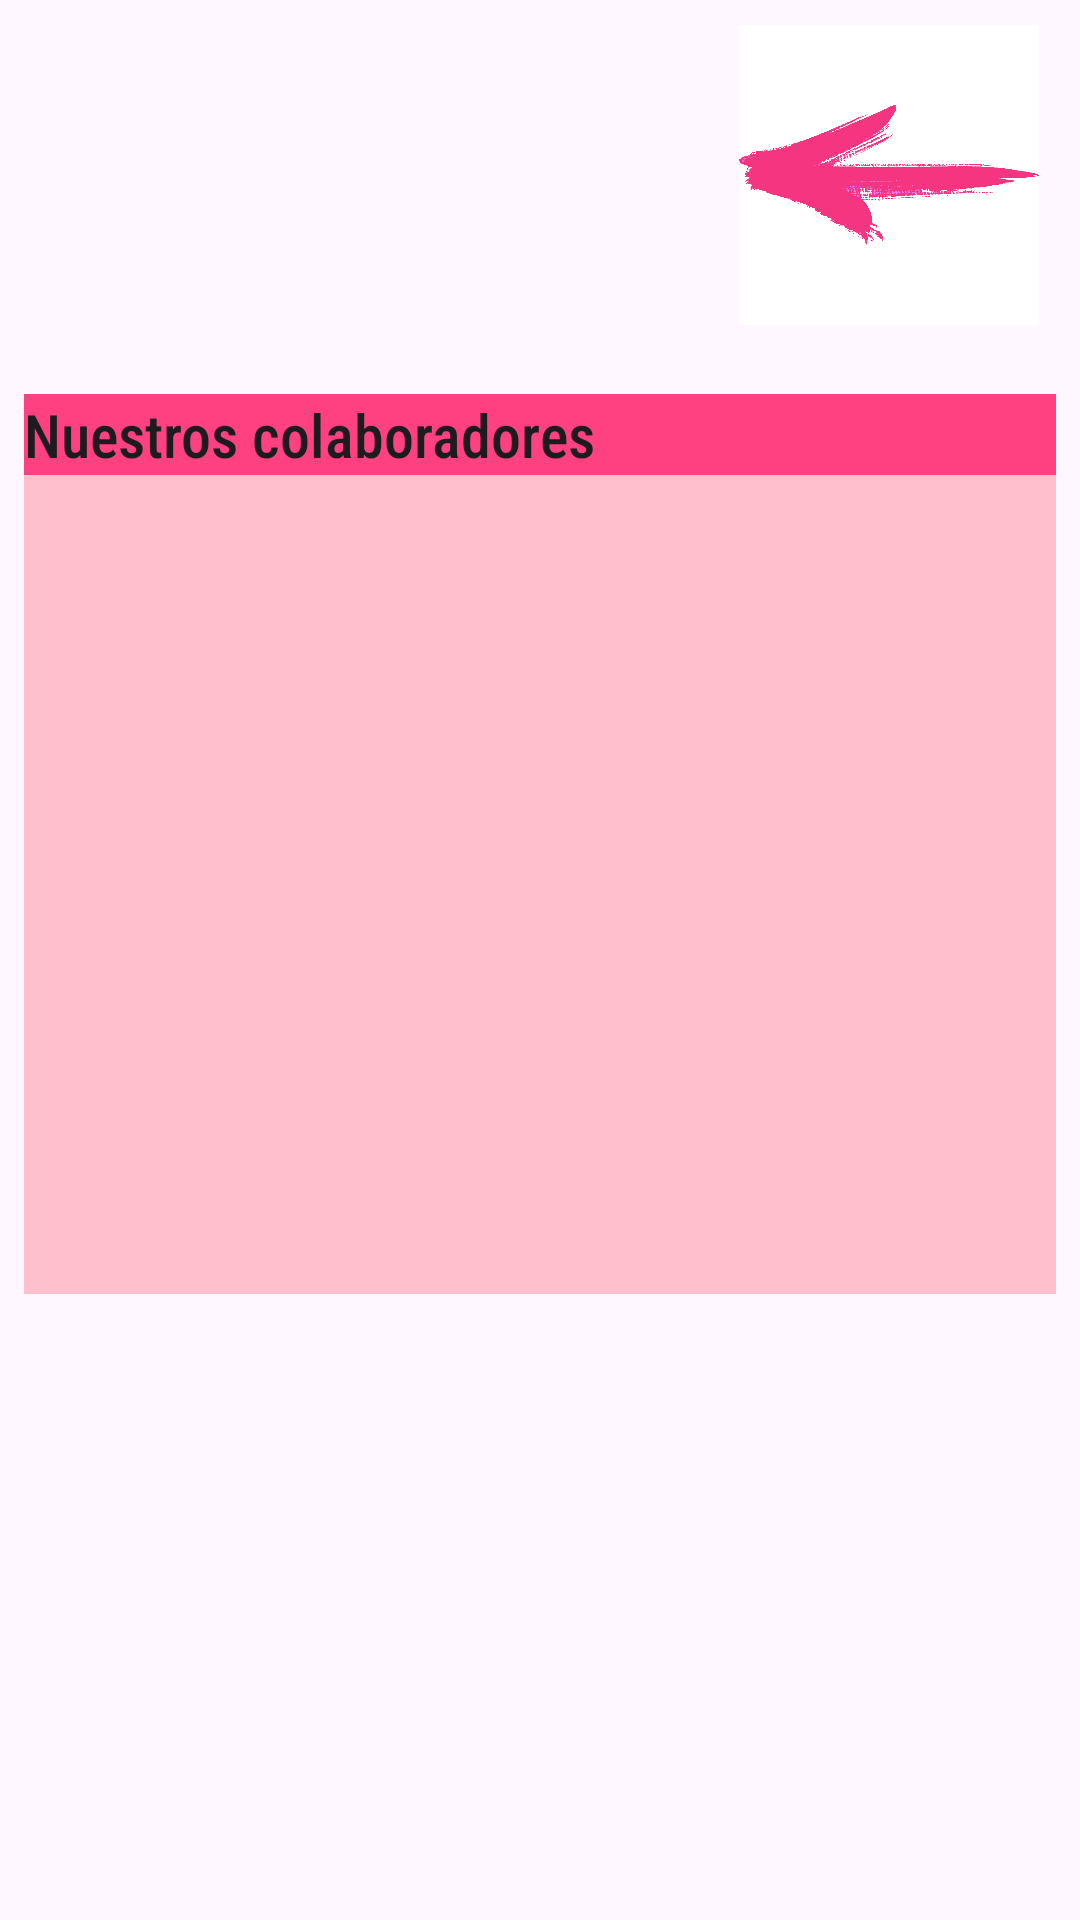

Where to tap for icons on this 1080x1920 app screen, as (x=x, y=y):
volver: (x=889, y=175)
